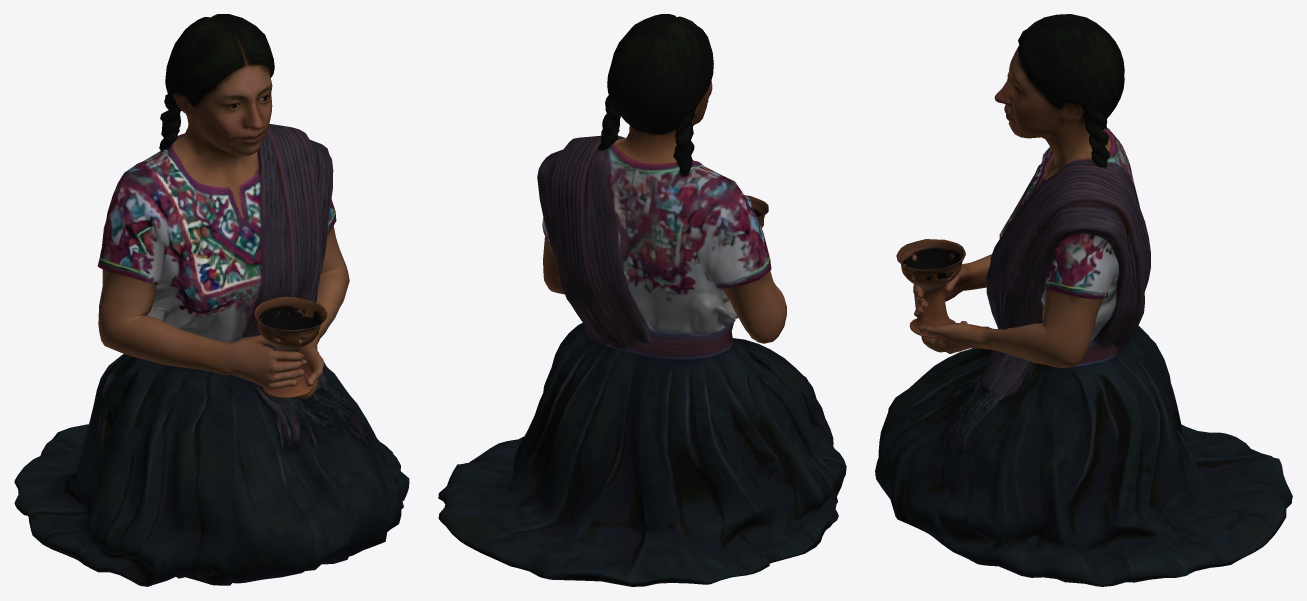
File: copalera.glb
3 views of the same model, side by side, from view 1: azimuth 30°, elevation 25°; view 2: azimuth 150°, elevation 25°; view 3: azimuth 270°, elevation 25° (orthographic). The views are drawn at different scales.
Parts seen in each view (by area): view 1: copalera; view 2: copalera; view 3: copalera.
Boxes of the visible parts, box(x1,y1,x2,y2) form: copalera: box(14, 14, 409, 586); copalera: box(438, 14, 846, 586); copalera: box(875, 14, 1292, 586).
Bounding box in the file's own units: 0.708 × 0.9526 × 0.7412.
Materials: 1 (1 with a texture image).
